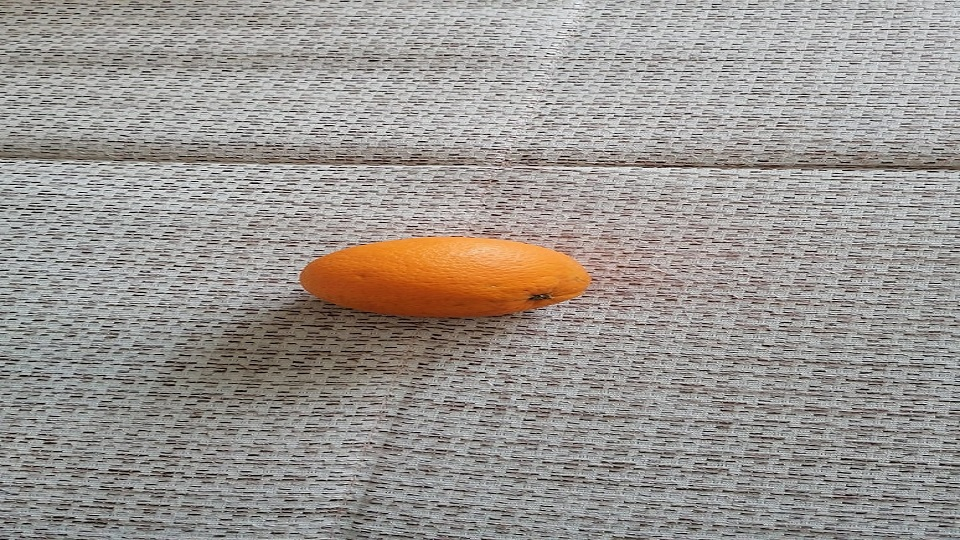portakal: (299, 235, 593, 320)
